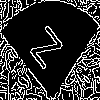Z: (25, 24, 63, 79)
